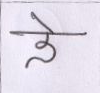e_matra: (31, 13, 56, 32)
